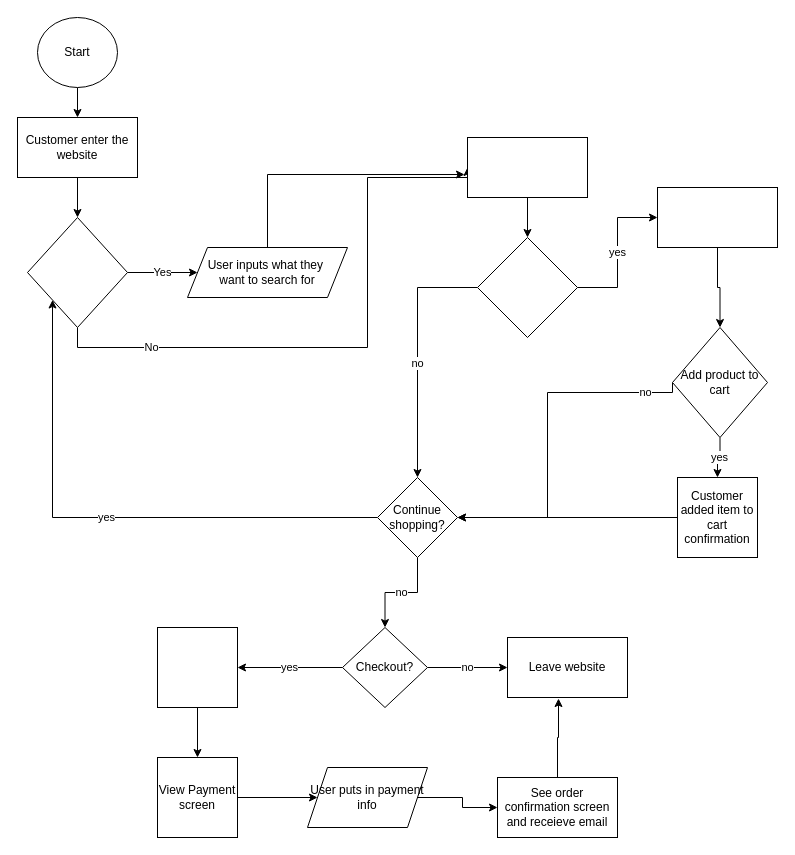
The diagram is 795 pixels wide and 855 high, and some of its shapes have lost their labels. The shapes that lost their labels are listed below. From the top down, each one's centre as x and y in pixels, then its label:
the point at 527,167: Customer is now looking at products
the point at 717,217: Customer views product
the point at 77,272: Customer searches for product
the point at 527,287: View specific product
the point at 197,667: Reach View Cart screen
